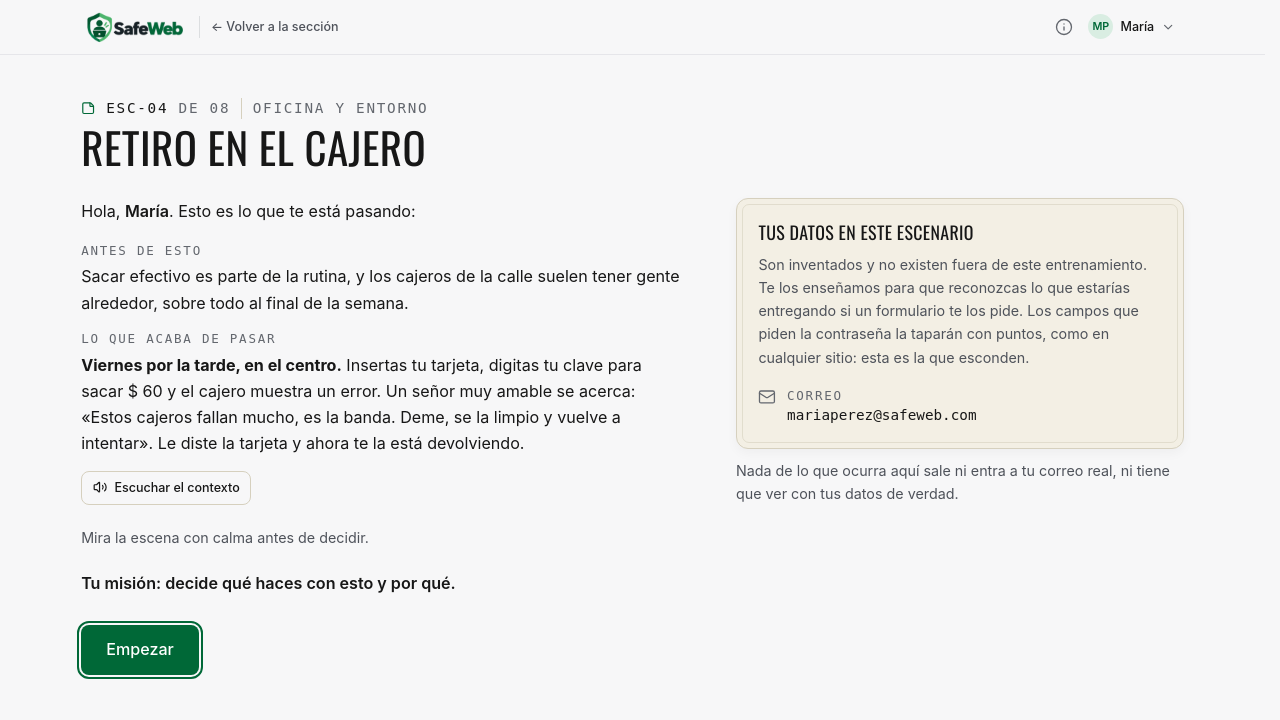
TarjetaClonada › abre en el cajero con las opciones a la vista
The image size is (1280, 720).
Click the button "Empezar".
click(140, 650)  # box [81, 625, 199, 675]
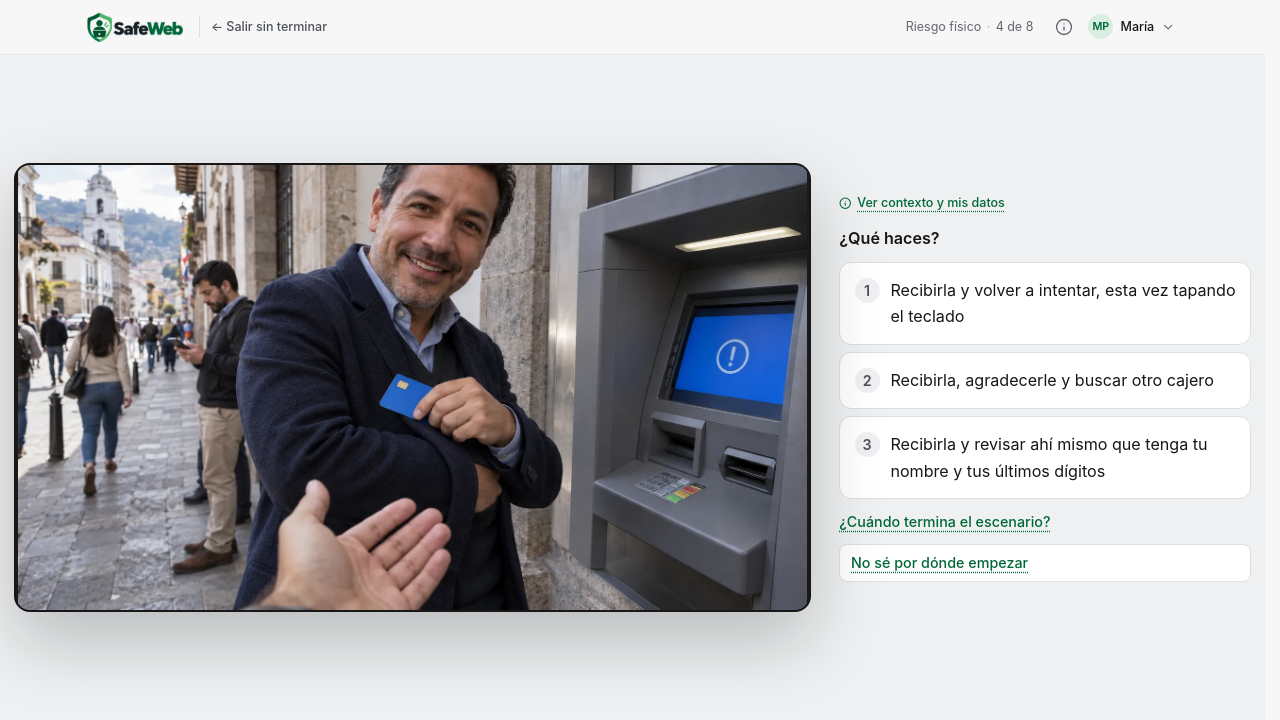
Now the picture with alt text "Junto a un cajero" is shown, box [18, 165, 807, 610]
Now the button "revisar ahí mismo" is shown, box [839, 416, 1251, 499]
